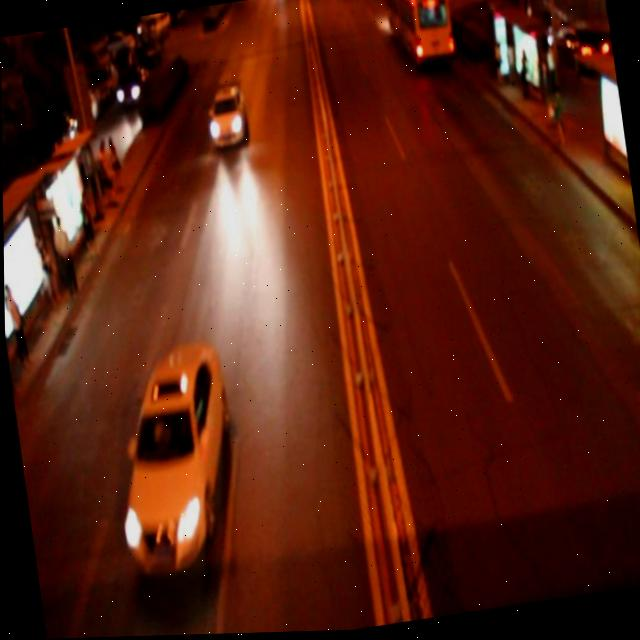car: (99, 334, 247, 582), (202, 83, 248, 151)
van: (383, 0, 455, 68)
